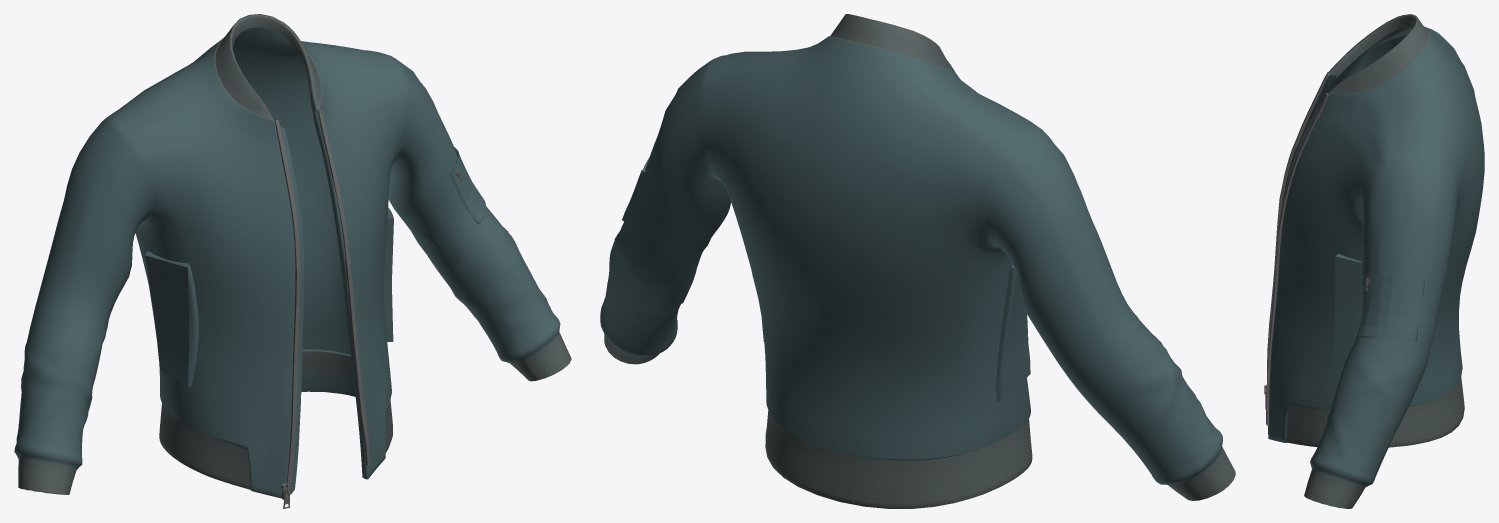
Rendered from bomber.glb.
3 renders of one model, left to right at view 1: azimuth 30°, elevation 25°; view 2: azimuth 150°, elevation 25°; view 3: azimuth 270°, elevation 25°, orthographic. The views are drawn at different scales.
Parts seen in each view (by area): view 1: jacket_low, sidepockets_low, jacket_zipper_low, shoulderpocket_low; view 2: jacket_low, sidepockets_low; view 3: jacket_low, shoulderpocket_low, sidepockets_low, jacket_zipper_low.
Boxes of the visible parts, x1,y1,x2,y2 form: jacket_low: [14, 14, 571, 498]; sidepockets_low: [145, 208, 393, 387]; jacket_zipper_low: [275, 109, 370, 484]; shoulderpocket_low: [449, 147, 485, 223]; jacket_low: [600, 14, 1235, 508]; sidepockets_low: [761, 265, 1030, 401]; jacket_low: [1268, 14, 1484, 508]; shoulderpocket_low: [1356, 273, 1424, 341]; sidepockets_low: [1333, 253, 1362, 373]; jacket_zipper_low: [1266, 73, 1329, 425].
Size of the model in its own units: 1.03 by 0.7634 by 0.3738.
Materials: 2 (2 with a texture image).
